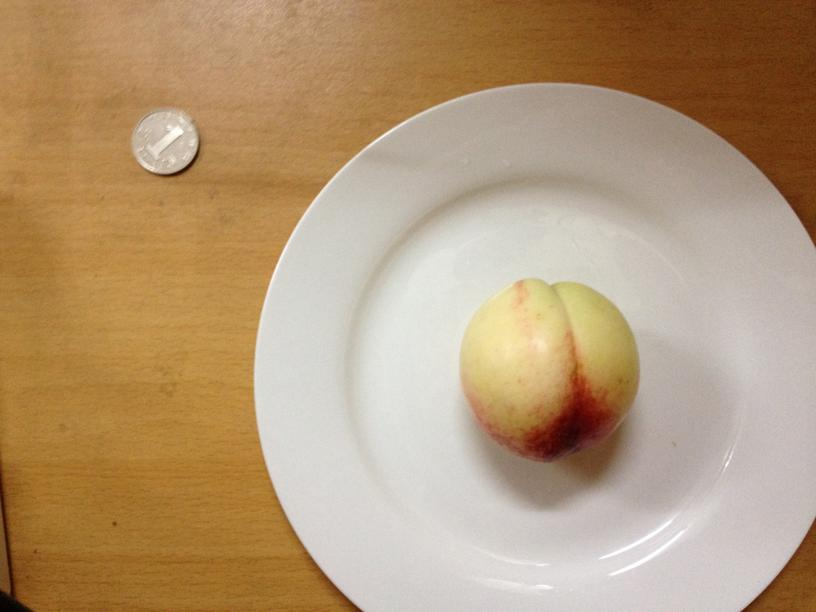coin: (127, 106, 201, 174)
peach: (463, 275, 638, 463)
